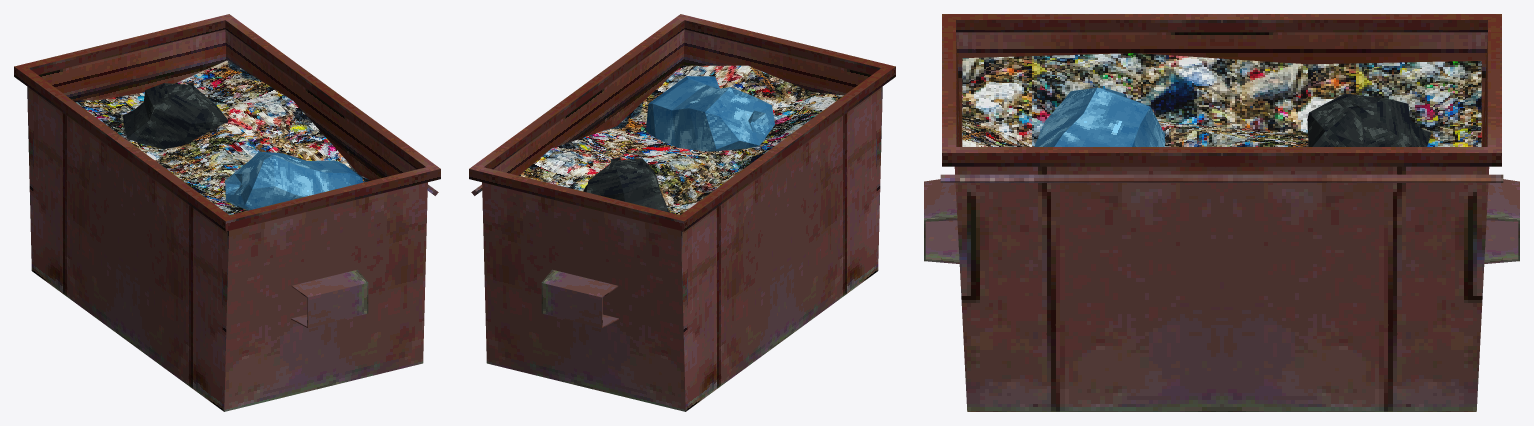
File: dumpster_full_no_lid_red.glb
3 views of the same model, side by side, from view 1: azimuth 30°, elevation 25°; view 2: azimuth 150°, elevation 25°; view 3: azimuth 270°, elevation 25° (orthographic). The views are drawn at different scales.
Parts seen in each view (by area): view 1: dumpster_full_no_lid_red; view 2: dumpster_full_no_lid_red; view 3: dumpster_full_no_lid_red.
Boxes of the visible parts, x1,y1,x2,y2 form: dumpster_full_no_lid_red: (14, 14, 440, 411); dumpster_full_no_lid_red: (469, 14, 895, 411); dumpster_full_no_lid_red: (924, 14, 1519, 411).
Bounding box in the file's own units: 2.03 × 1.8 × 3.67.
Materials: 3 (3 with a texture image).
